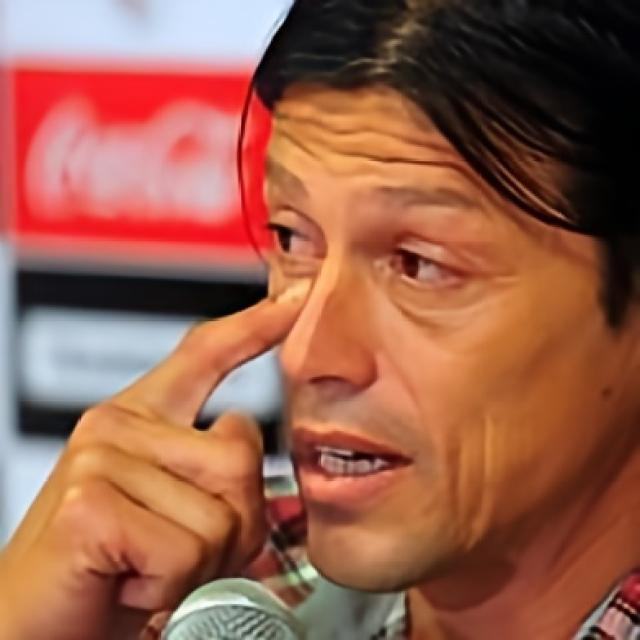sad: (258, 73, 638, 595)
